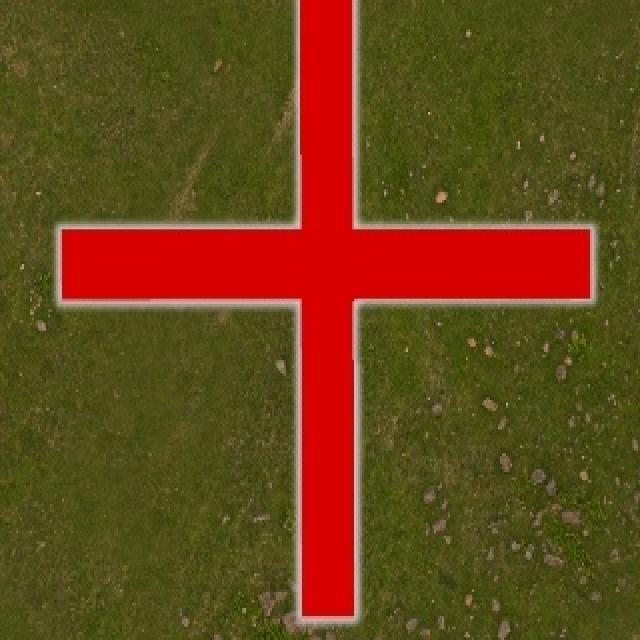x_marker: (59, 0, 591, 619)
